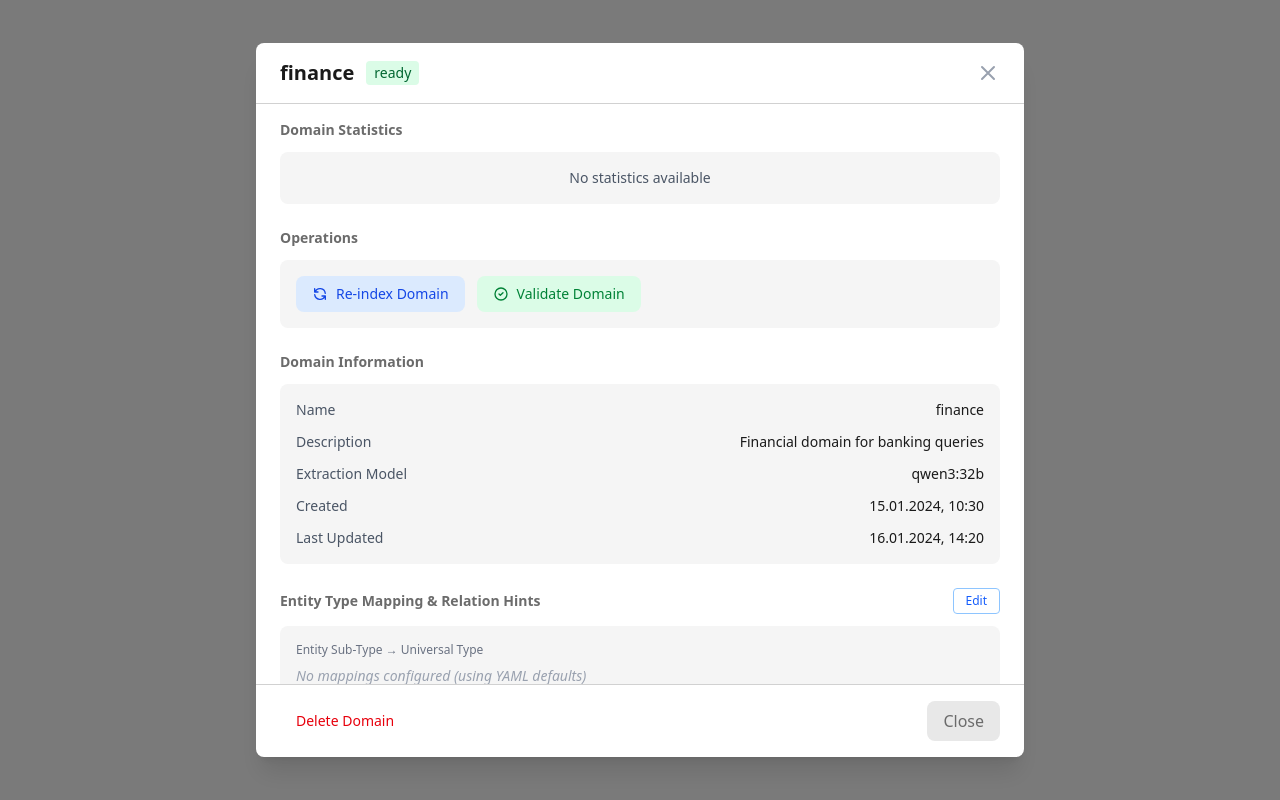
Test case: DomainDetailDialog › delete functionality › should show inline delete confirmation when Delete Domain is clicked
What coordinates should you click on to do the following:
click the button with test id "dialog-delete-button"
I would click on:
 (345, 721)
Its box is [280, 701, 410, 741].
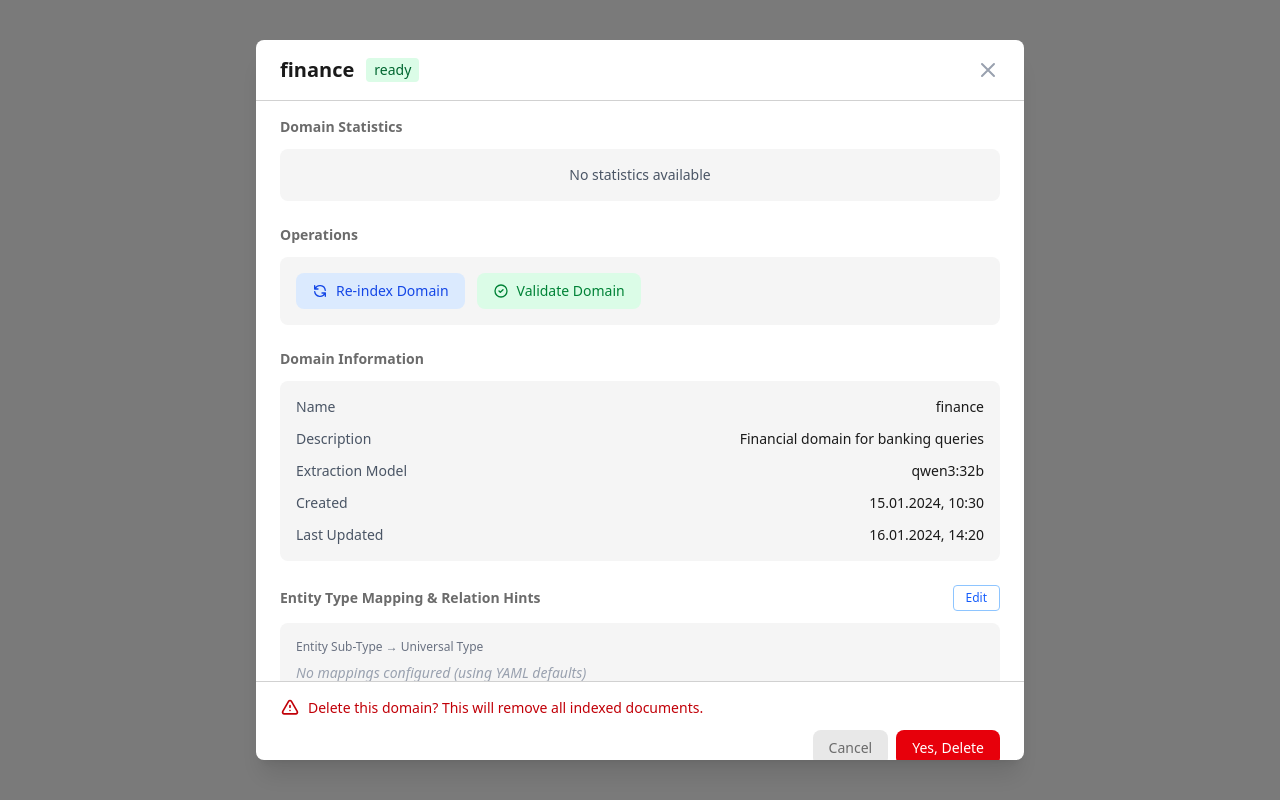
Expected: the text "Delete this domain? This will remove all indexed documents." is shown, [308, 698, 703, 718]
Expected: the button with test id "dialog-delete-confirm-button" is shown, [896, 730, 1000, 760]
Expected: the button with test id "dialog-delete-cancel-button" is shown, [813, 730, 888, 760]
